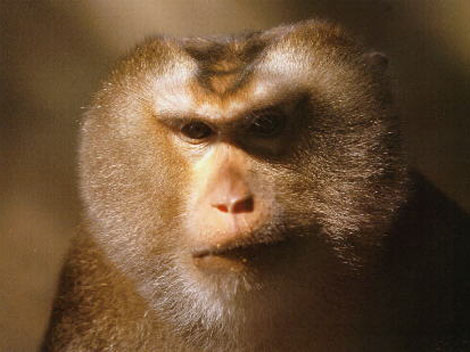monkey: (39, 15, 470, 352)
